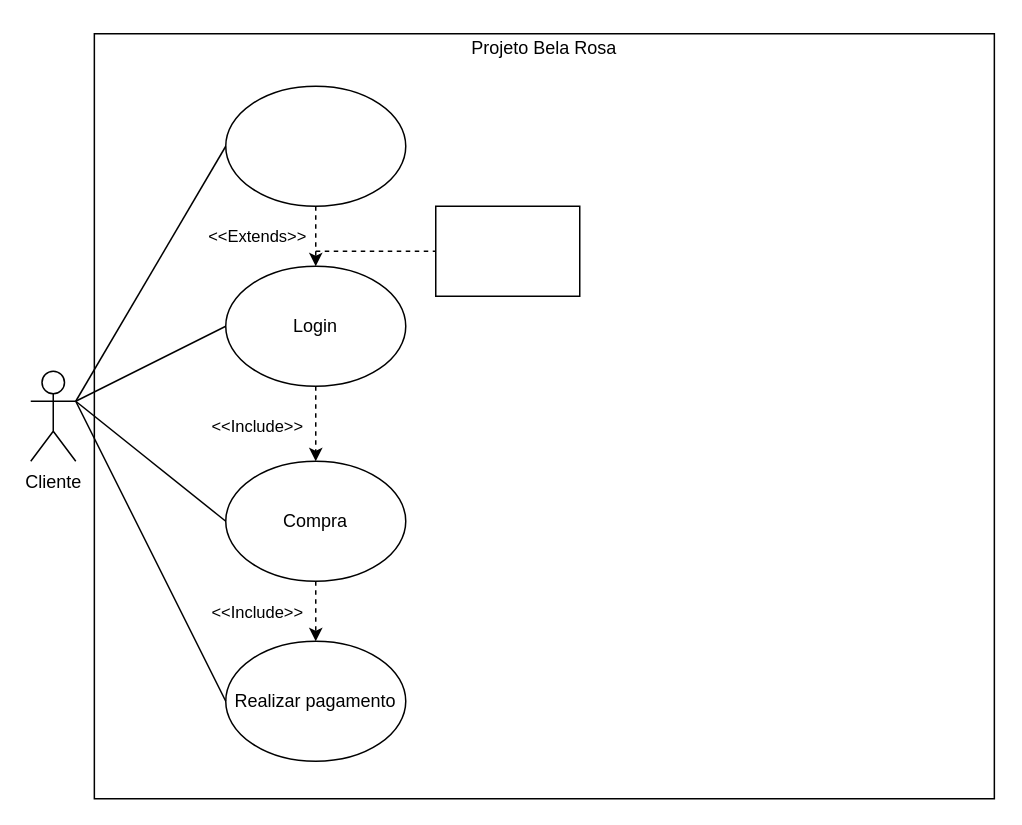
Image size: 1022x825. Some labels were removed from this diagram. Here are the shapes that lost their labels. From the top down, the box of each, then its label:
(224, 85, 406, 206): Cadastro
(434, 205, 580, 296): Caso nãp possua cadastro no sisstema
